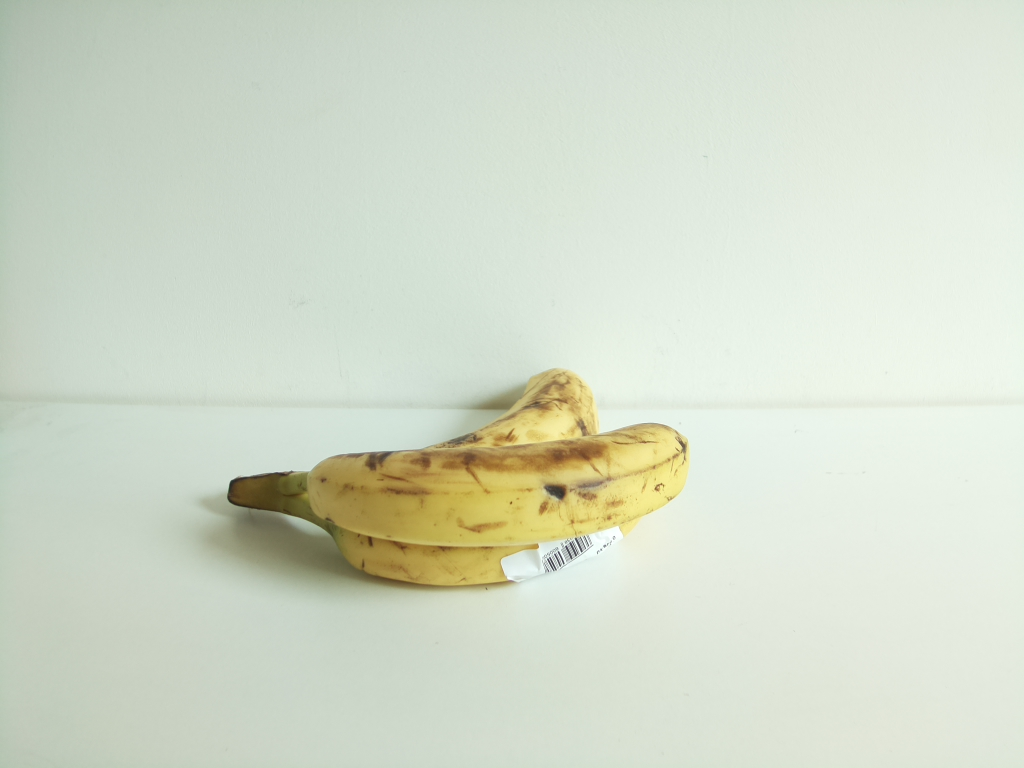banana: (226, 424, 687, 547), (229, 370, 596, 505), (229, 501, 589, 589)
